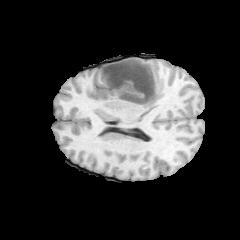glioma: (100, 57, 165, 113)
